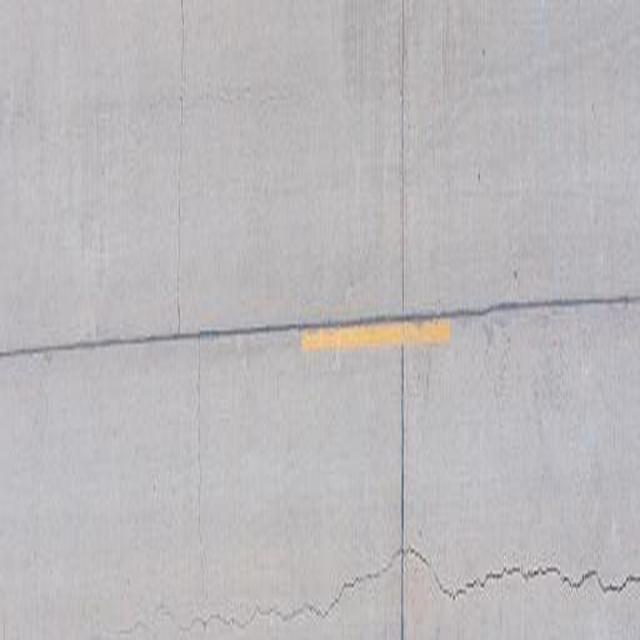Crack: (329, 518, 640, 640)
